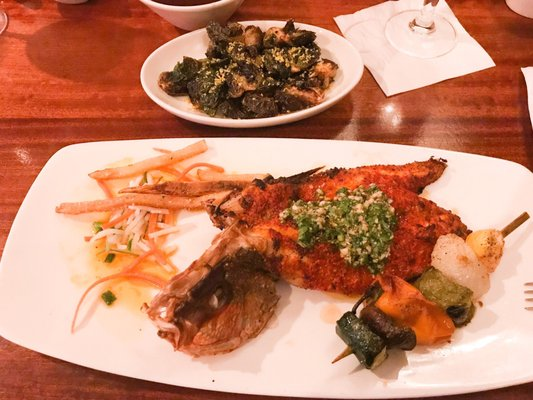sushi: (139, 19, 364, 130), (137, 0, 247, 31)
